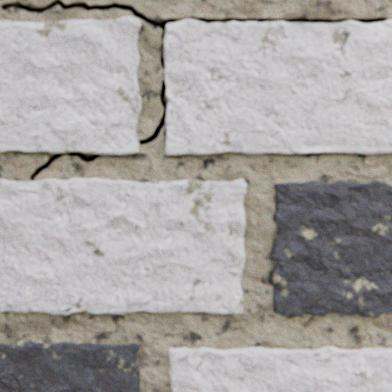brick: (0, 178, 246, 314), (163, 20, 391, 155), (0, 17, 142, 155), (270, 180, 391, 315), (169, 345, 391, 391), (0, 338, 140, 391)
crack: (1, 0, 391, 42), (138, 46, 167, 145), (28, 151, 101, 181), (114, 154, 122, 156)
